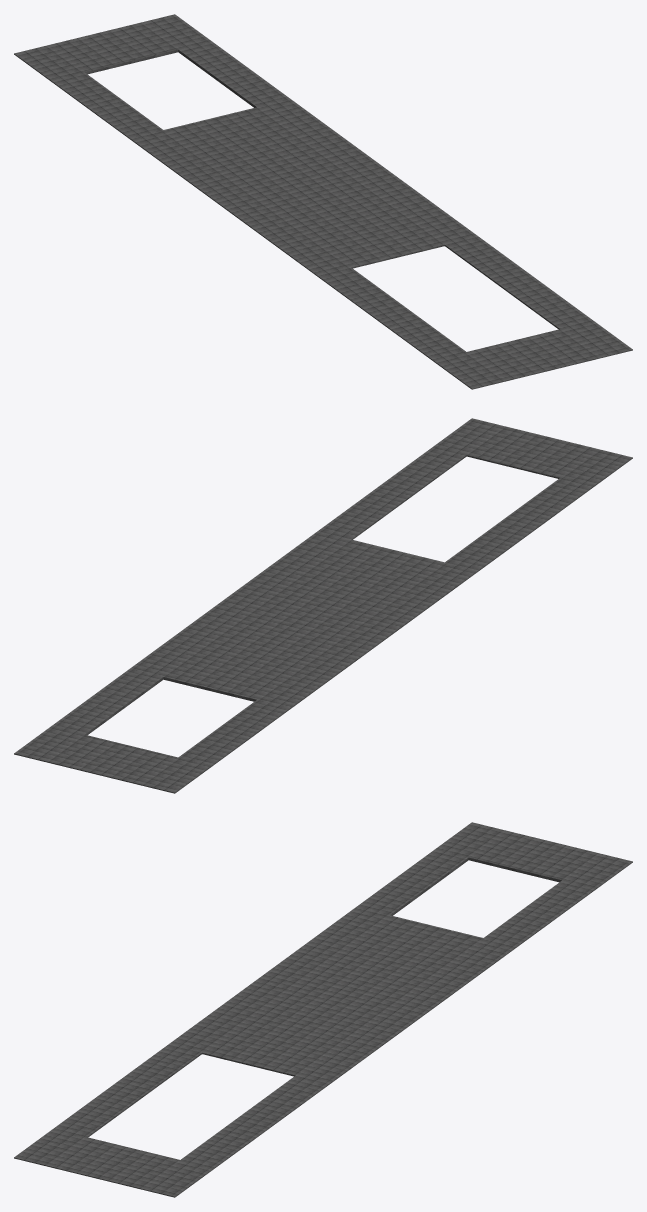
Rendered from Pavement04.fbx.
3 renders of one model, top to bottom at view 1: azimuth 30°, elevation 25°; view 2: azimuth 150°, elevation 25°; view 3: azimuth 330°, elevation 25°, orthographic.
Parts seen in each view (by area): view 1: Pavement04; view 2: Pavement04; view 3: Pavement04.
Part boxes in pixels (x1,y1,x2,y2): Pavement04: [14, 14, 632, 389]; Pavement04: [14, 418, 632, 793]; Pavement04: [14, 822, 632, 1197].
Size of the model in its own units: 38.91 by 0.6254 by 192.
